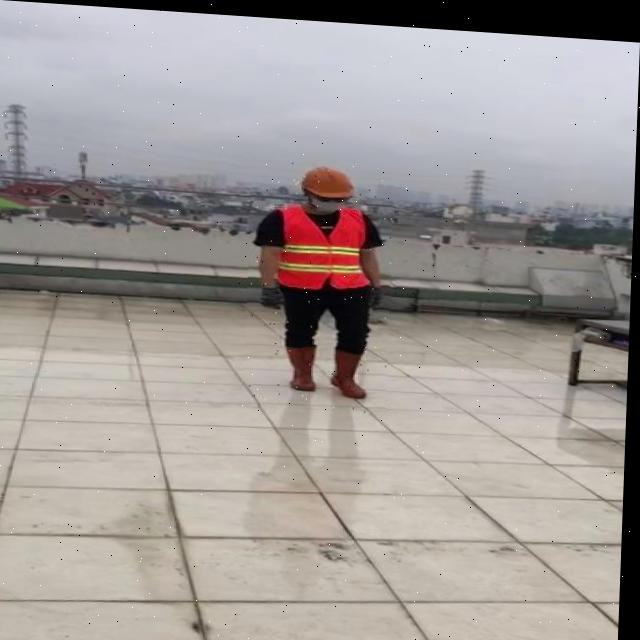Gloves: (261, 280, 287, 304), (369, 281, 383, 304)
Helmet: (302, 160, 356, 195)
Safety-Boot: (332, 342, 370, 393), (288, 338, 320, 386)
Safety-Vest: (273, 198, 373, 288)
